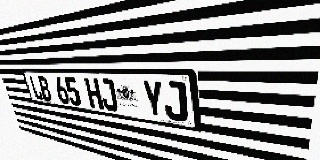5: (64, 77, 82, 106)
6: (53, 77, 71, 105)
B: (37, 76, 53, 102)
H: (84, 78, 104, 110)
J: (162, 81, 188, 122), (98, 78, 119, 112)
L: (28, 76, 44, 101)
Y: (141, 80, 166, 119)
